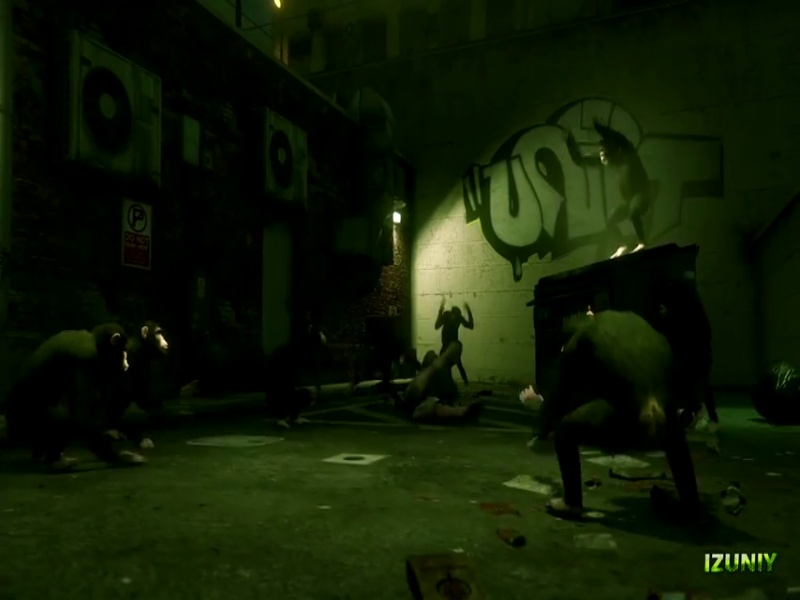human: (9, 319, 152, 472)
